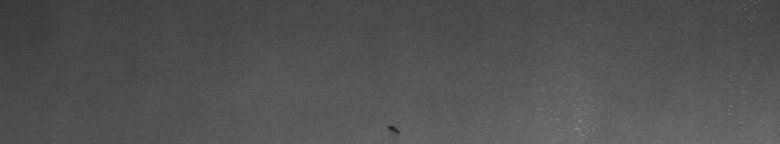fi: (384, 119, 404, 136)
